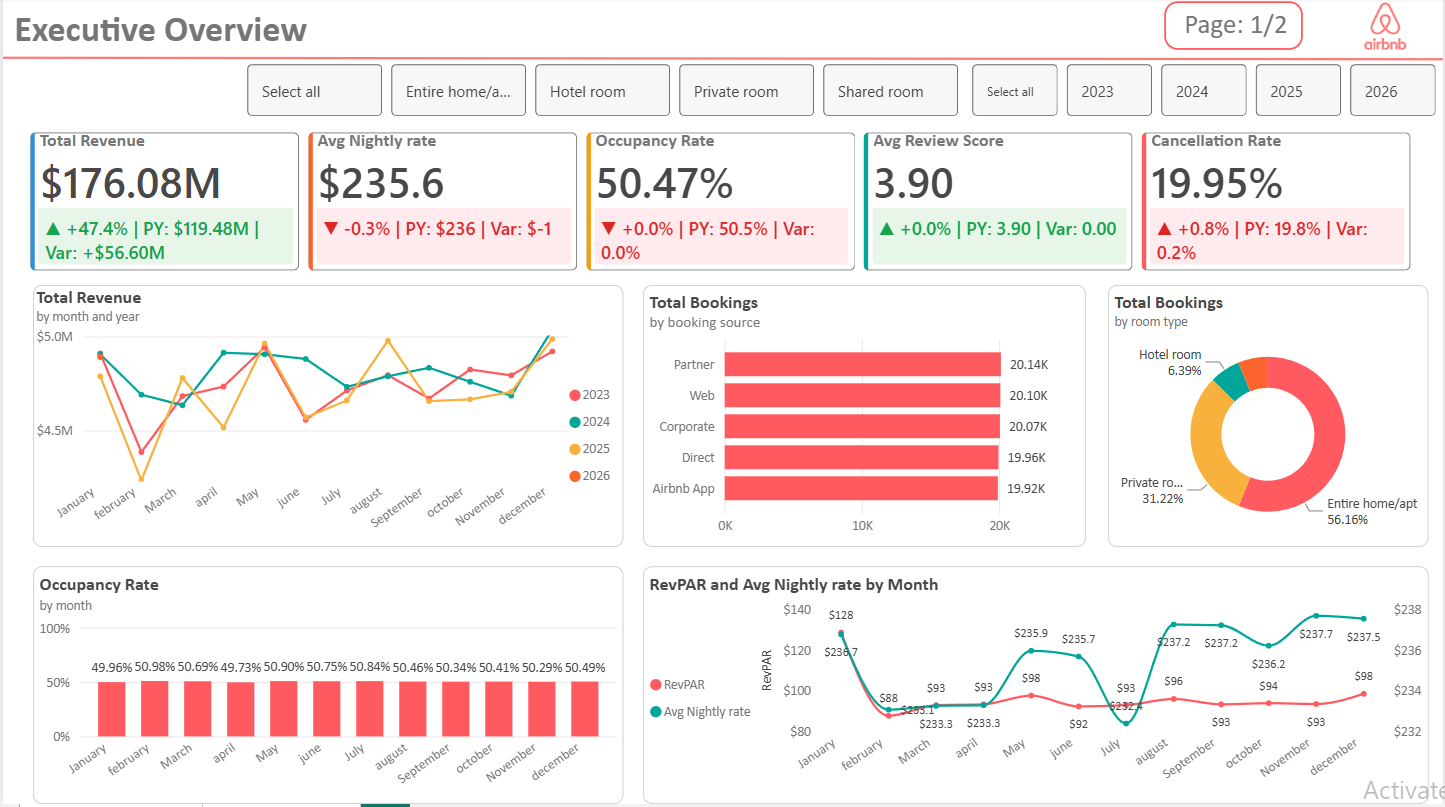

The page's visual inventory and layout, read from the dashboard file:
{"tool":"powerbi","page":{"name":"Executive Overview","canvas":[1280,720],"ordinal":0},"visuals":[{"type":"cardVisual","fields":{"Data":["Measure table.Total Revenue","Measure table.Avg Nightly rate","Measure table.Occupancy Rate","Measure table.Avg Review Score","Measure table.Cancellation Rate"]},"box":[12.5,110,1255,147.5],"z":0},{"type":"lineChart","title":"Total Revenue","fields":{"Y":["Measure table.Total Revenue"],"Series":["dim_date.year"],"Category":["dim_date.month_name"]},"box":[26.2,257.5,525,232.5],"z":1000},{"type":"clusteredBarChart","title":"Total Bookings ","fields":{"Y":["Measure table.Total Bookings"],"Category":["fact_bookings.booking_source"]},"box":[568.8,257.5,393.8,232.5],"z":2000},{"type":"donutChart","title":"Total Bookings","fields":{"Category":["dim_property.room_type"],"Y":["Measure table.Total Bookings"]},"box":[982.5,257.5,285,232.5],"z":3000},{"type":"columnChart","title":"Occupancy Rate ","fields":{"Category":["dim_date.month_name"],"Y":["Measure table.Occupancy Rate"]},"box":[26.2,507.5,525,211.2],"z":4000},{"type":"lineChart","title":"RevPAR and Avg Nightly rate by Month","fields":{"Y":["Measure table.RevPAR"],"Y2":["Measure table.Avg Nightly rate"],"Category":["dim_date.month_name"]},"box":[568.8,507.5,698.8,211.2],"z":5000},{"type":"textbox","box":[0,0,300,61.2],"z":6000},{"type":"advancedSlicerVisual","fields":{"Values":["dim_property.room_type"]},"box":[212.5,56.2,643.8,56.2],"z":7000},{"type":"advancedSlicerVisual","fields":{"Values":["dim_date.year"]},"box":[856.2,56.2,423.8,56.2],"z":8000},{"type":"shape","box":[1032.7,6,123.1,43.4],"z":8001},{"type":"textbox","box":[1040,0,132.7,56.7],"z":8002}]}

Visuals, with their boxes in screenshot pixels (x1, y1, x2, y2), scaled from the page's 1280x720 canvas onto the 1445x807 screenshot:
cardVisual - Measure table.Total Revenue x Measure table.Avg Nightly rate: (left=14, top=123, right=1431, bottom=289)
"Total Revenue" lineChart: (left=30, top=289, right=622, bottom=549)
"Total Bookings " clusteredBarChart: (left=642, top=289, right=1087, bottom=549)
"Total Bookings" donutChart: (left=1109, top=289, right=1431, bottom=549)
"Occupancy Rate " columnChart: (left=30, top=569, right=622, bottom=806)
"RevPAR and Avg Nightly rate by Month" lineChart: (left=642, top=569, right=1431, bottom=806)
textbox: (left=0, top=0, right=339, bottom=69)
advancedSlicerVisual - dim_property.room_type: (left=240, top=63, right=967, bottom=126)
advancedSlicerVisual - dim_date.year: (left=967, top=63, right=1444, bottom=126)
shape: (left=1166, top=7, right=1305, bottom=55)
textbox: (left=1174, top=0, right=1324, bottom=64)
